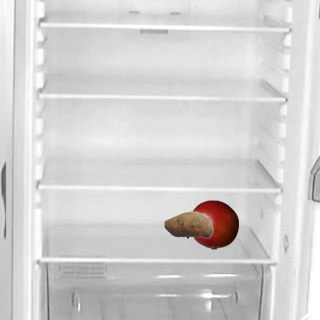Apple Braeburn: (188, 199, 238, 249)
Potato Sweet: (163, 199, 213, 249)
